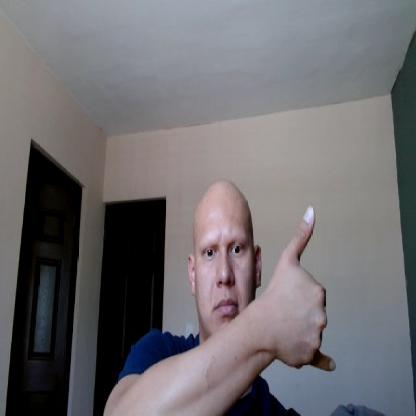Y: (269, 204, 338, 380)
